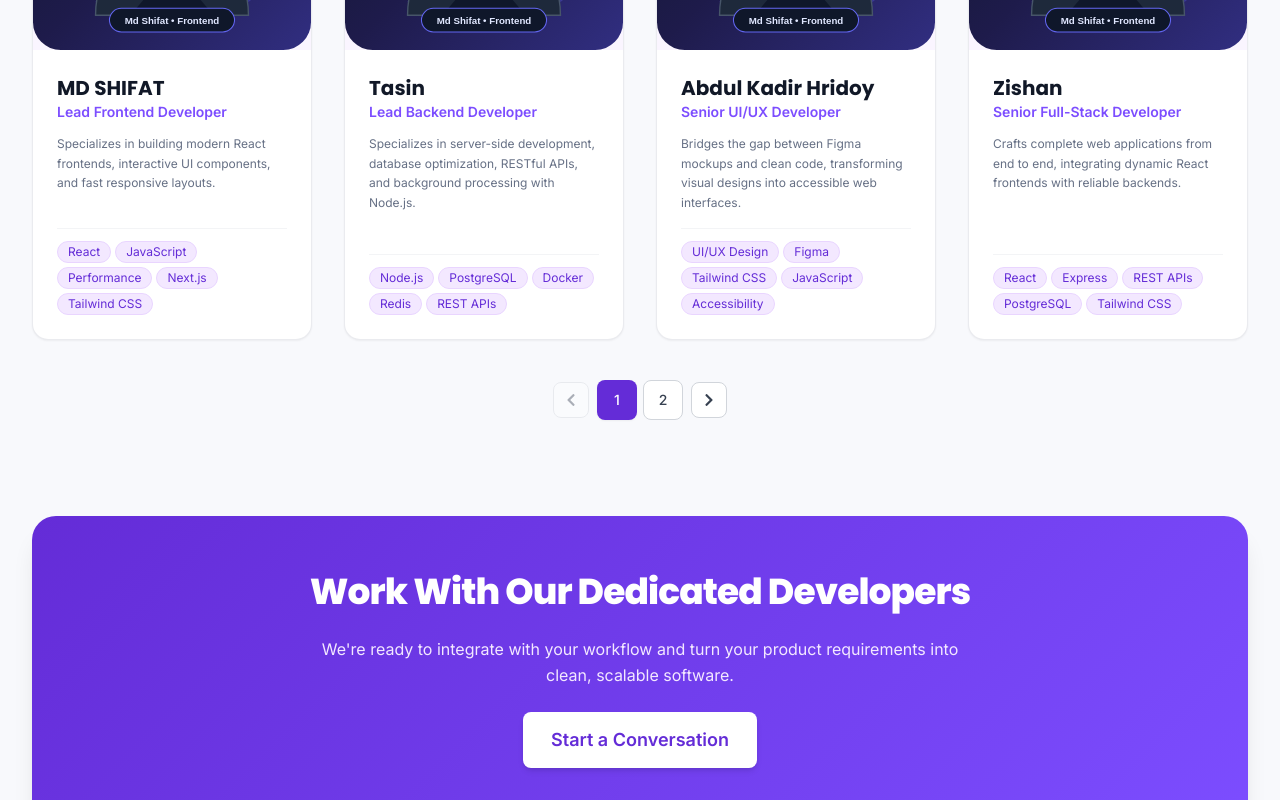
Test: Team Pagination & Display › navigates to page 2 when clicking page 2 button
This screenshot has width=1280, height=800.
(page scrolled)
Click the button named "Page 2" at (663, 400), box [643, 380, 683, 420]
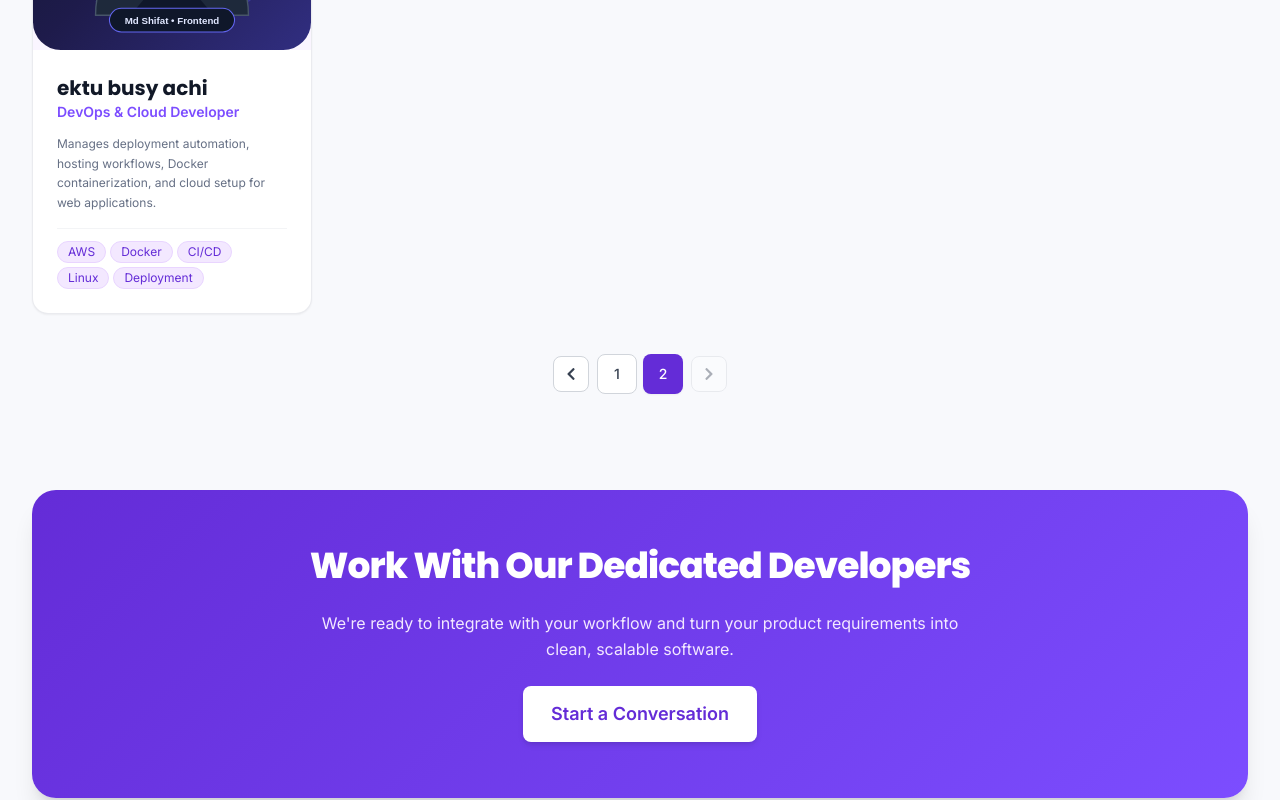
Now the heading "ektu busy achi" is shown, box [57, 74, 208, 102]
Now the heading "MD SHIFAT" is gone
